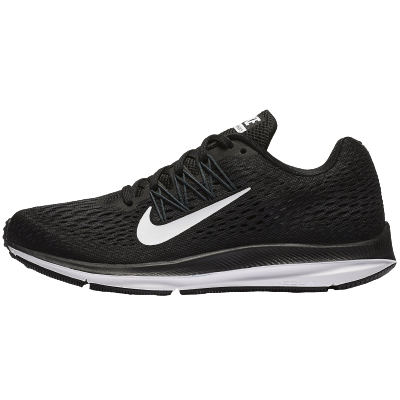nike: (136, 183, 260, 248)
